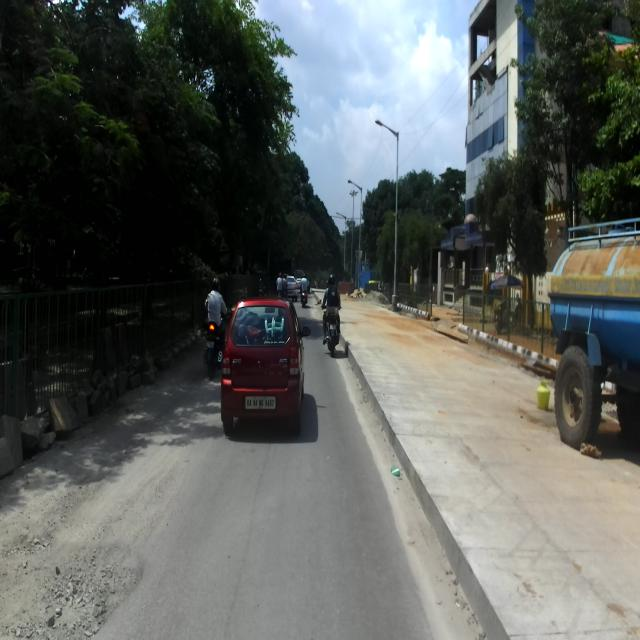car ahead at: (224, 301, 308, 439)
truck ahead at: (553, 218, 640, 446)
